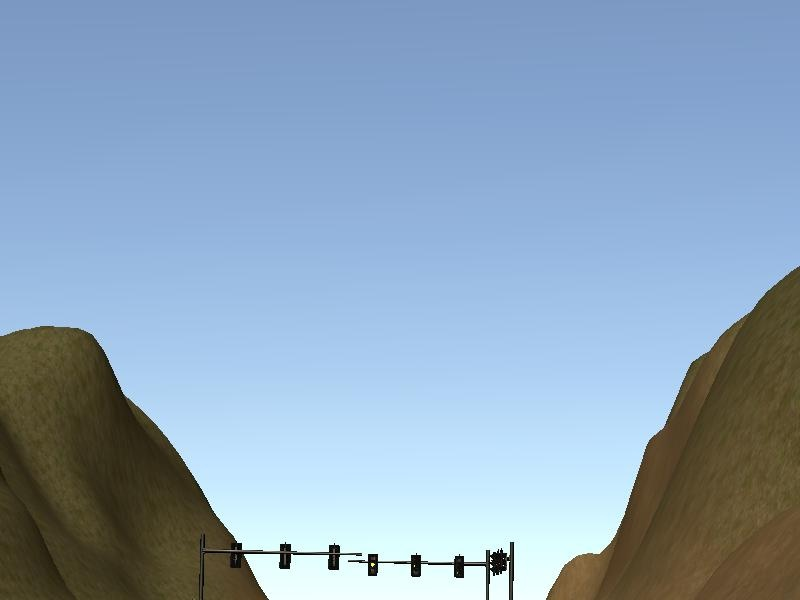traffic_light_yellow: (356, 555, 484, 578)
